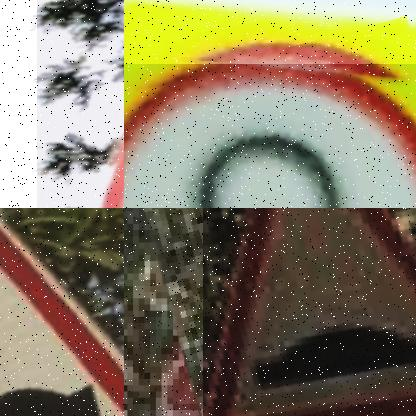Speed Breaker Ahead: (206, 208, 416, 416), (0, 224, 124, 416)
U-Turn: (124, 64, 416, 208)
